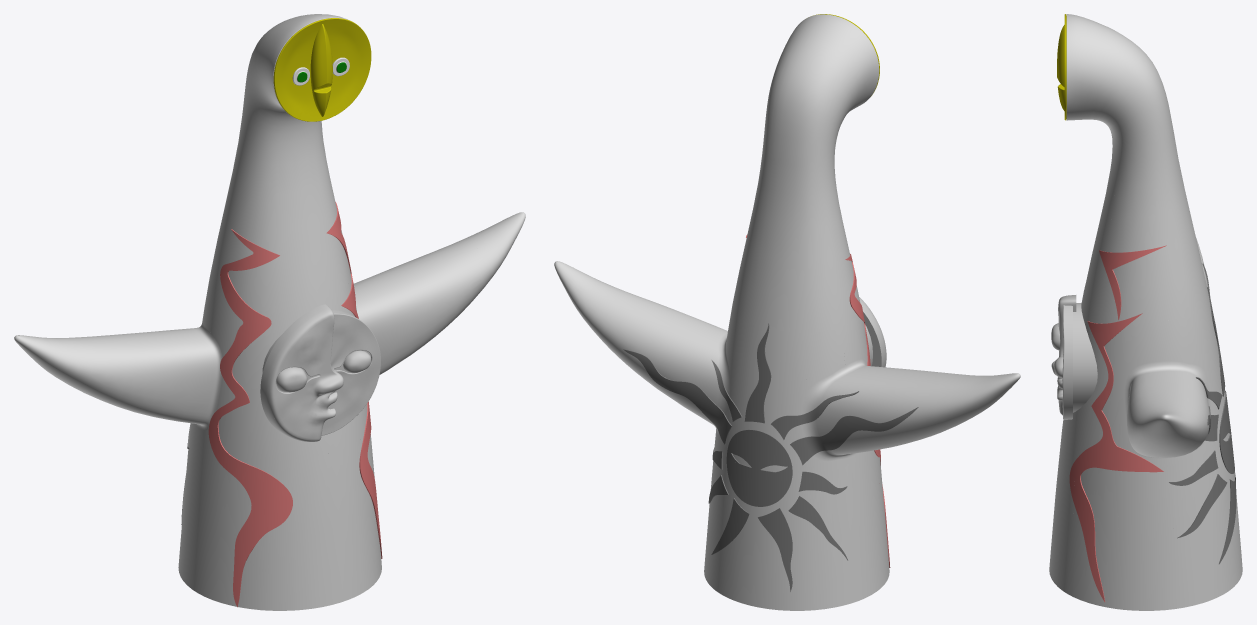
The picture shows the model from 3 angles, left to right: view 1: azimuth 30°, elevation 25°; view 2: azimuth 150°, elevation 25°; view 3: azimuth 270°, elevation 25°; orthographic projection. The views are drawn at different scales.
Visible parts, largest first — view 1: 009_taiyonotou; view 2: 009_taiyonotou; view 3: 009_taiyonotou.
Part boxes in pixels (x1,y1,x2,y2): 009_taiyonotou: [14, 14, 525, 610]; 009_taiyonotou: [554, 14, 1020, 610]; 009_taiyonotou: [1049, 14, 1242, 610].
Size of the model in its own units: 0.1691 by 0.1834 by 0.0584.
